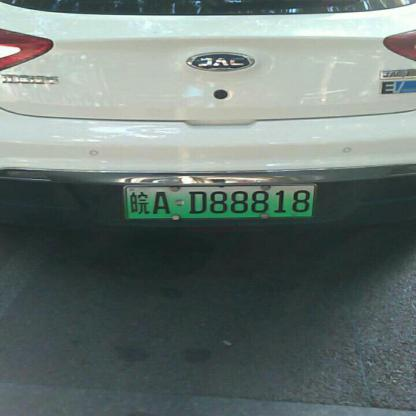lp: (125, 184, 314, 218)
